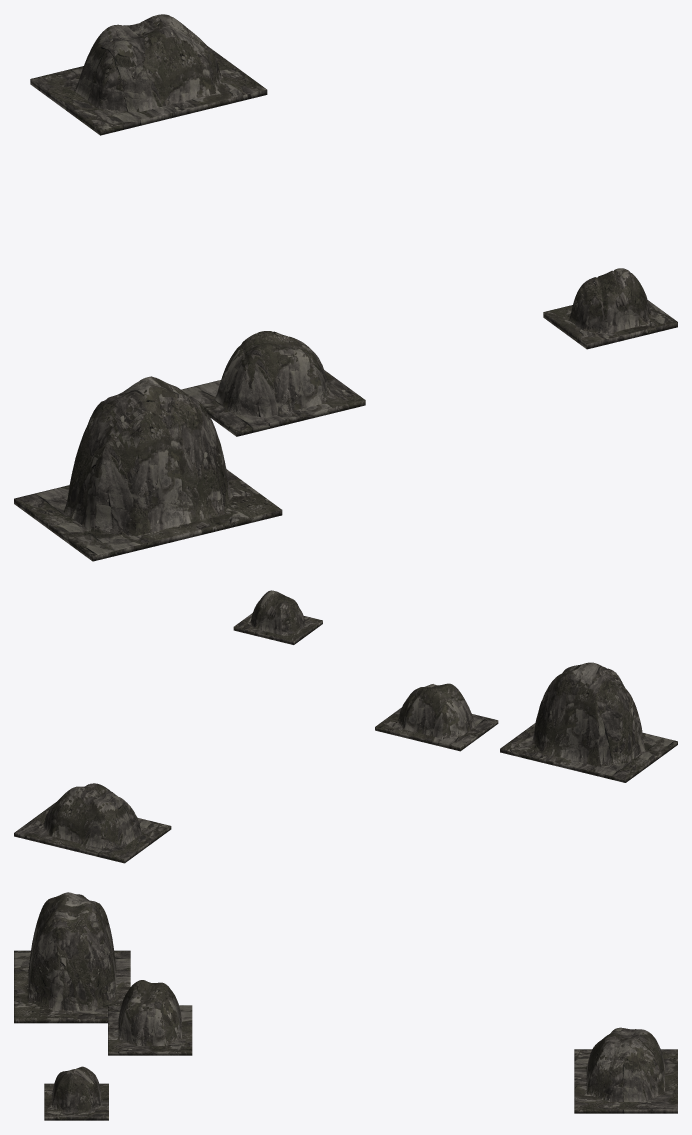
File: beach-rocks.glb
3 renders of one model, top to bottom at view 1: azimuth 30°, elevation 25°; view 2: azimuth 150°, elevation 25°; view 3: azimuth 270°, elevation 25°, orthographic. The views are drawn at different scales.
Parts seen in each view (by area): view 1: Coastal rock | weathered bedding 2, Coastal rock | weathered bedding 0, Coastal rock | weathered bedding 1, Coastal rock | weathered bedding 3; view 2: Coastal rock | weathered bedding 2, Coastal rock | weathered bedding 0, Coastal rock | weathered bedding 1, Coastal rock | weathered bedding 3; view 3: Coastal rock | weathered bedding 2, Coastal rock | weathered bedding 0, Coastal rock | weathered bedding 1, Coastal rock | weathered bedding 3.
Boxes of the visible parts, box(x1,y1,x2,y2) form: Coastal rock | weathered bedding 2: box(14, 376, 282, 561); Coastal rock | weathered bedding 0: box(30, 14, 267, 135); Coastal rock | weathered bedding 1: box(181, 331, 365, 436); Coastal rock | weathered bedding 3: box(543, 268, 677, 349); Coastal rock | weathered bedding 2: box(500, 662, 677, 782); Coastal rock | weathered bedding 0: box(14, 783, 171, 863); Coastal rock | weathered bedding 1: box(375, 683, 498, 751); Coastal rock | weathered bedding 3: box(233, 590, 322, 644); Coastal rock | weathered bedding 2: box(14, 892, 130, 1023); Coastal rock | weathered bedding 0: box(574, 1027, 677, 1113); Coastal rock | weathered bedding 1: box(108, 980, 192, 1055); Coastal rock | weathered bedding 3: box(44, 1066, 108, 1120).
Bounding box in the file's own units: 11.98 × 2.39 × 15.35.
1 material, 1 textured.
